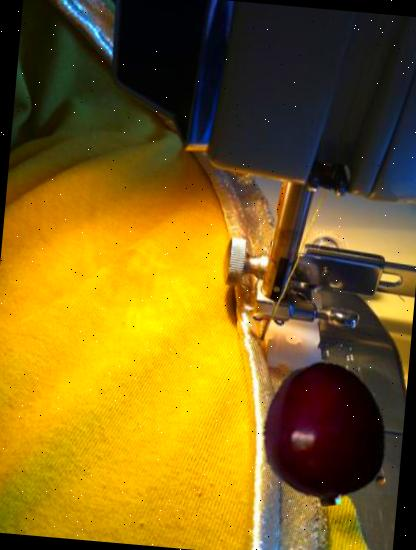Cherry: (247, 355, 404, 513)
